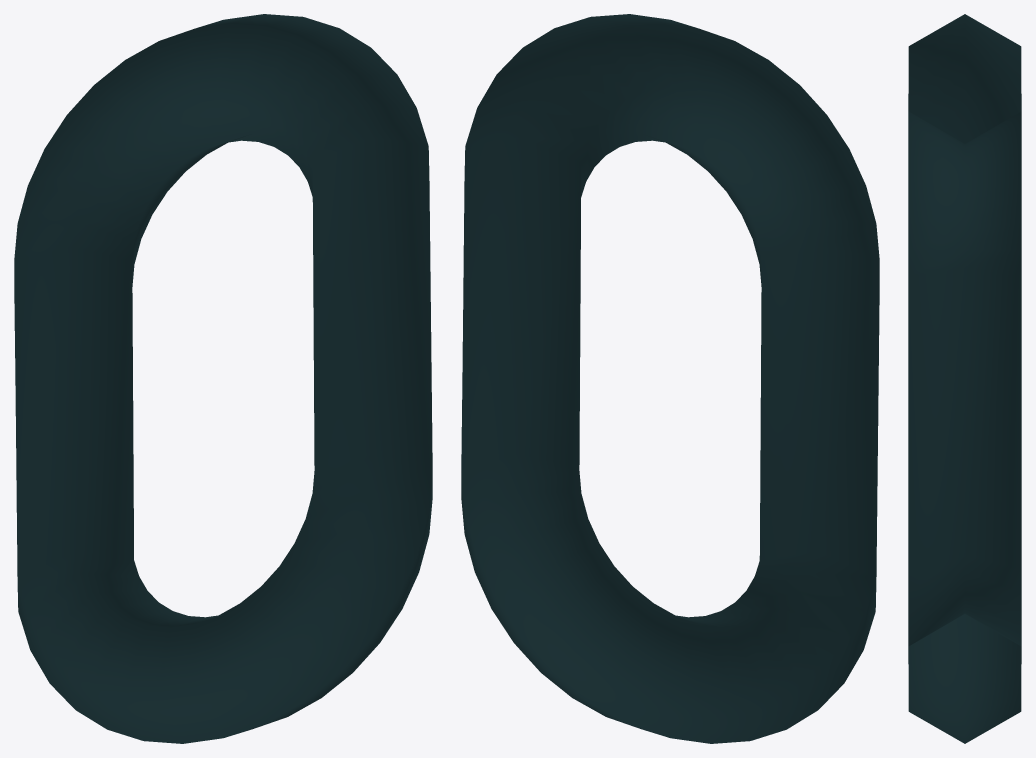
Rendered from chain_link_ink.glb.
3 views of the same model, side by side, from view 1: azimuth 30°, elevation 25°; view 2: azimuth 150°, elevation 25°; view 3: azimuth 270°, elevation 25° (orthographic). The views are drawn at different scales.
Visible parts, largest first — view 1: chain_link_ink; view 2: chain_link_ink; view 3: chain_link_ink.
Boxes of the visible parts, box(x1,y1,x2,y2) form: chain_link_ink: box(14, 14, 432, 743); chain_link_ink: box(461, 14, 879, 743); chain_link_ink: box(908, 14, 1021, 743).
Bounding box in the file's own units: 0.78 × 1.28 × 0.1913.
